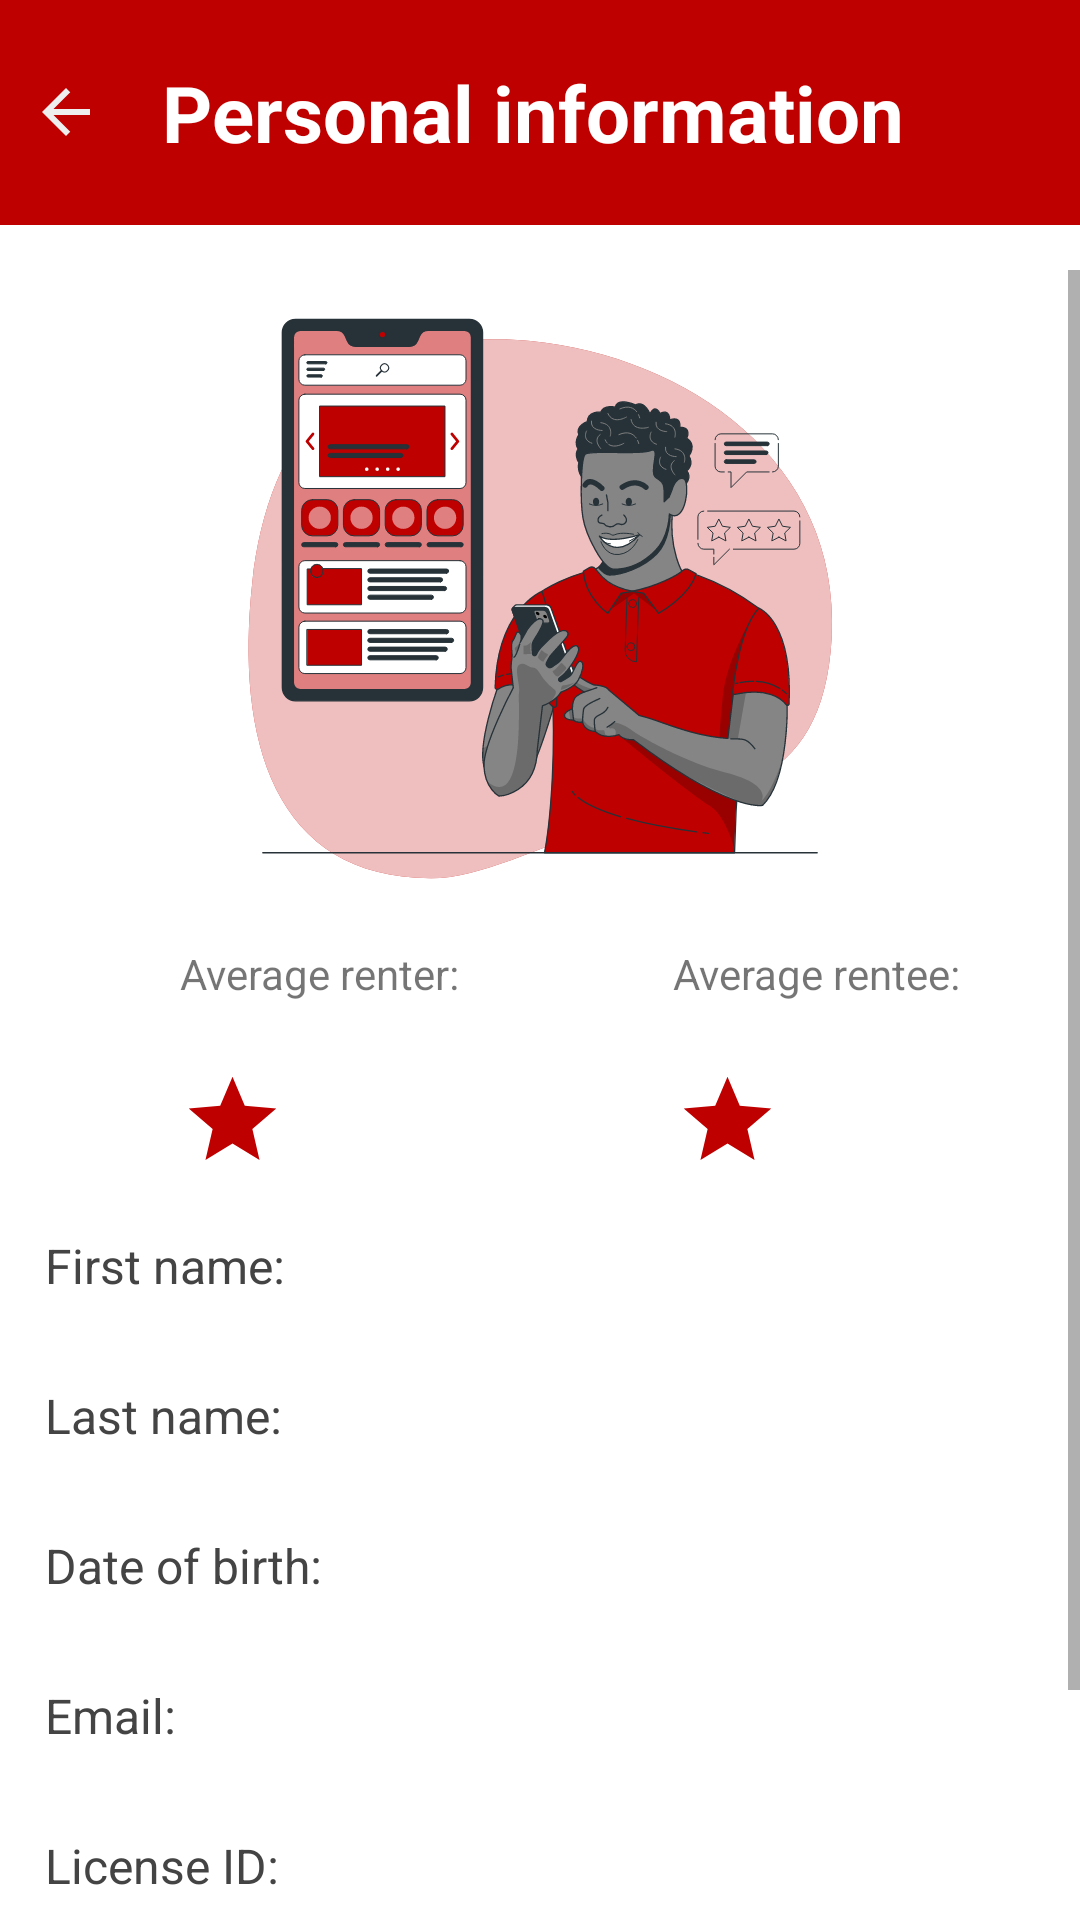

Locate icon controls on the screen. Image size 1080px×1920px, boxes as [x1, y1, x2, y2].
arrow back: [42, 88, 90, 136]
grade: [189, 1077, 276, 1160], [684, 1077, 771, 1160]
